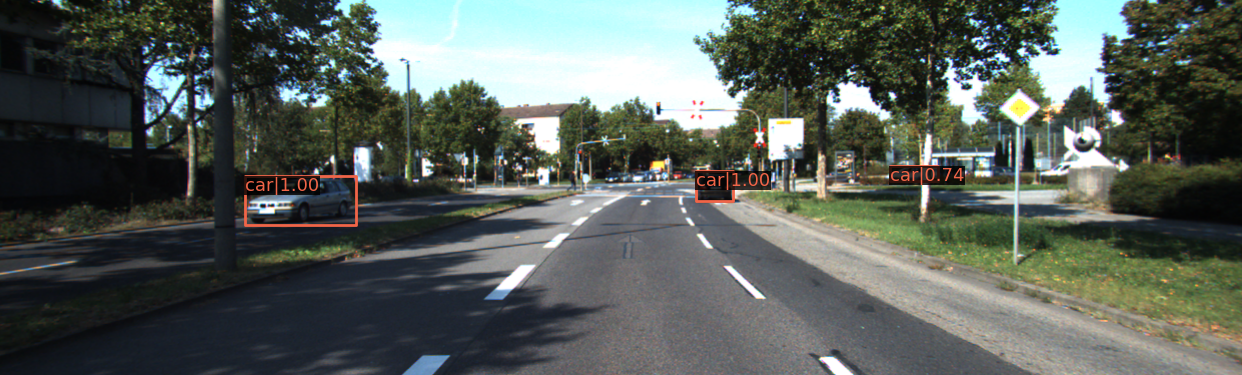car: (246, 180, 357, 228), (697, 174, 732, 204), (883, 166, 933, 184), (813, 169, 858, 185)
person: (569, 173, 577, 196)
